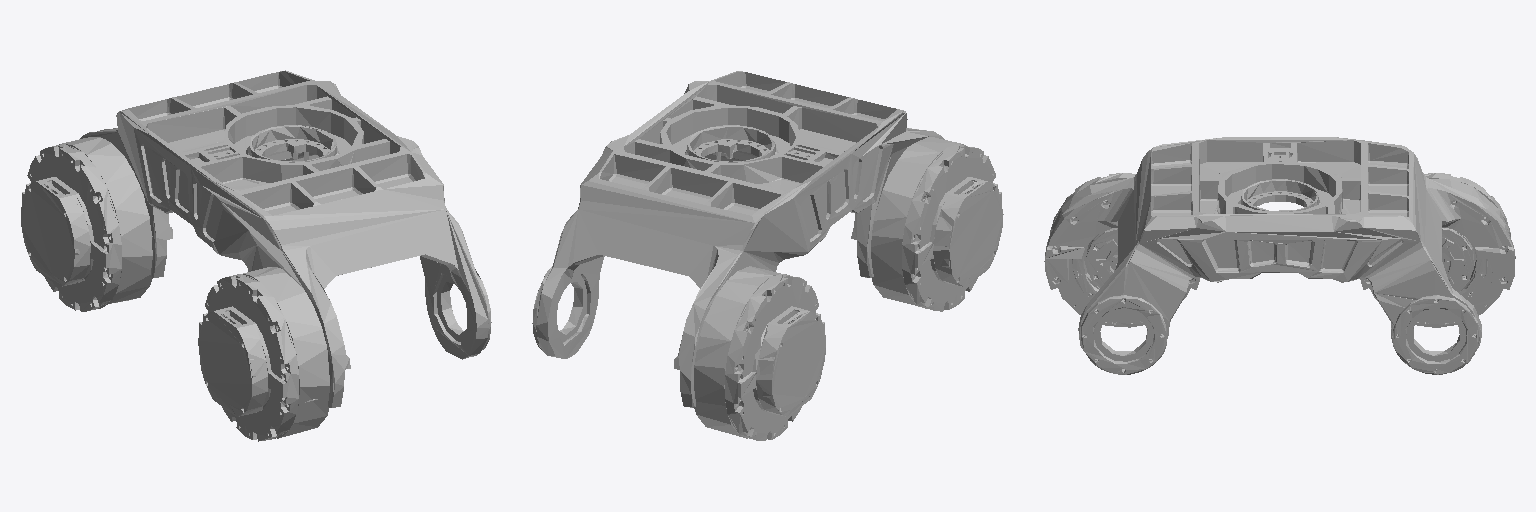
URDF robot description (humanoid):
<?xml version="1.0" encoding="utf-8"?>
<robot name="humanoid">
  <mujoco>
        <compiler 
        meshdir="meshes/" 
        balanceinertia="true" 
        discardvisual="false" />
  </mujoco>
  <link name="pelvis">
    <inertial>
      <origin xyz="-0.047395 0.00 -0.046657" rpy="0 0 0"/>
      <mass value="5.587228"/>
      <inertia ixx="0.080339" ixy="-0.0000080" ixz="0.006666" iyy="0.029082" iyz="-0.000004" izz="0.091570"/>
    </inertial>
    <visual>
      <origin xyz="0 0 0.013" rpy="0 0 0"/>
      <geometry>
        <mesh filename="meshes/pelvis.STL"/>
      </geometry>
      <material name="">
        <color rgba="0.752941176470588 0.752941176470588 0.752941176470588 1"/>
      </material>
    </visual>
    <collision>
      <origin xyz="0 0 0.01" rpy="0 0 0"/>
      <geometry>
        <cylinder radius="0.08" length="0.05"/></geometry>
    </collision>
  </link>
  <link name="hip_roll_l_link">
    <inertial>
      <origin xyz="-0.00048 0.00336 -0.00372" rpy="0 0 0"/>
      <mass value="1.12809"/>
      <inertia ixx="0.0058" ixy="0.00000" ixz="0.00000" iyy="0.0093" iyz="-0.00011" izz="0.0108"/>
    </inertial>
    <visual>
      <origin xyz="0 0 0" rpy="0 0 0"/>
      <geometry>
        <mesh filename="meshes/hip_roll_l_link.STL"/>
      </geometry>
      <material name="">
        <color rgba="0.752941176470588 0.752941176470588 0.752941176470588 1"/>
      </material>
    </visual>
    <collision>
      <origin xyz="-0.087 0 0.004" rpy="0 1.57 0"/>
      <geometry>
        <cylinder radius="0.06" length="0.03"/></geometry>
    </collision>
  </link>
  <joint name="hip_roll_l_joint" type="revolute">
    <origin xyz="0 0.13 -0.0659230484541305" rpy="0 0 0"/>
    <parent link="pelvis"/>
    <child link="hip_roll_l_link"/>
    <axis xyz="1 0 0"/>
    <limit effort="150" lower="-0.97" upper="0.97" velocity="12"/>
  </joint>
  <link name="hip_yaw_l_link">
    <inertial>
      <origin xyz="0.00104 0.00351 0.00968" rpy="0 0 0"/>
      <mass value="1.91605"/>
      <inertia ixx="0.00237" ixy="-0.00005" ixz="-0.00001" iyy="0.00271" iyz="-0.00005" izz="0.00152"/>
    </inertial>
    <visual>
      <origin xyz="0 0 0" rpy="0 0 0"/>
      <geometry>
        <mesh filename="meshes/hip_yaw_l_link.STL"/>
      </geometry>
      <material name="">
        <color rgba="0.752941176470588 0.752941176470588 0.752941176470588 1"/>
      </material>
    </visual>
    <collision>
      <origin xyz="0 0 0.13" rpy="0 0 0"/>
      <geometry>
        <cylinder radius="0.05" length="0.02"/></geometry>
    </collision>
  </link>
  <joint name="hip_yaw_l_joint" type="revolute">
    <origin xyz="0 0 -0.116" rpy="0 0 0"/>
    <parent link="hip_roll_l_link"/>
    <child link="hip_yaw_l_link"/>
    <axis xyz="0 0 1"/>
    <limit effort="90" lower="-1.0472" upper="1.0472" velocity="14"/>
  </joint>
  <link name="hip_pitch_l_link">
    <inertial>
      <origin xyz="0.00823 -0.00853 -0.13551" rpy="0 0 0"/>
      <mass value="3.37311"/>
      <inertia ixx="0.02261" ixy="0.00036" ixz="-0.00020" iyy="0.02274" iyz="-0.00132" izz="0.00637"/>
    </inertial>
    <visual>
      <origin xyz="0 0 0" rpy="0 0 0"/>
      <geometry>
        <mesh filename="meshes/hip_pitch_l_link.STL"/>
      </geometry>
      <material name="">
        <color rgba="0.752941176470588 0.752941176470588 0.752941176470588 1"/>
      </material>
    </visual>
    <collision>
      <origin xyz="0 0 -0.10" rpy="0 0 0"/>
      <geometry>
        <cylinder radius="0.057" length="0.3"/></geometry>
    </collision>
  </link>
  <joint name="hip_pitch_l_joint" type="revolute">
    <origin xyz="0 0 0" rpy="0 0 0"/>
    <parent link="hip_yaw_l_link"/>
    <child link="hip_pitch_l_link"/>
    <axis xyz="0 1 0"/>
    <limit effort="150" lower="-1.57" upper="0.5236" velocity="12"/>
  </joint>
  <link name="knee_pitch_l_link">
    <inertial>
      <origin xyz="0.00228 0.00293 -0.12066" rpy="0 0 0"/>
      <mass value="2.28832"/>
      <inertia ixx="0.02033" ixy="0.00004" ixz="0.00049" iyy="0.02013" iyz="0.00089" izz="0.00090"/>
    </inertial>
    <visual>
      <origin xyz="0 0 0" rpy="0 0 0"/>
      <geometry>
        <mesh filename="meshes/knee_pitch_l_link.STL"/>
      </geometry>
      <material name="">
        <color rgba="0.752941176470588 0.752941176470588 0.752941176470588 1"/>
      </material>
    </visual>
    <collision>
      <origin xyz="0 0 -0.14" rpy="0 0 0"/>
      <geometry>
        <cylinder radius="0.03" length="0.2"/></geometry>
    </collision>
  </link>
  <joint name="knee_pitch_l_joint" type="revolute">
    <origin xyz="0 0 -0.3" rpy="0 0 0"/>
    <parent link="hip_pitch_l_link"/>
    <child link="knee_pitch_l_link"/>
    <axis xyz="0 1 0"/>
    <limit effort="150" lower="0.1745" upper="2.443" velocity="12"/>
  </joint>
  <link name="ankle_pitch_l_link">
    <inertial>
      <origin xyz="0.00027 0.00 0.00" rpy="0 0 0"/>
      <mass value="0.15163"/>
      <inertia ixx="0.003" ixy="0.00000" ixz="0.00000" iyy="0.003" iyz="0.00000" izz="0.006"/>
    </inertial>
    <visual>
      <origin xyz="0 0 0" rpy="0 0 0"/>
      <geometry>
        <mesh filename="meshes/ankle_pitch_l_link.STL"/>
      </geometry>
      <material name="">
        <color rgba="0.752941176470588 0.752941176470588 0.752941176470588 1"/>
      </material>
    </visual>
    <collision>
      <origin xyz="0 0 0" rpy="0 1.57 0"/>
      <geometry>
        <cylinder radius="0.009" length="0.02"/></geometry>
    </collision>
  </link>
  <joint name="ankle_pitch_l_joint" type="revolute">
    <origin xyz="0 0 -0.3" rpy="0 0 0"/>
    <parent link="knee_pitch_l_link"/>
    <child link="ankle_pitch_l_link"/>
    <axis xyz="0 1 0"/>
    <limit effort="60" lower="-1.22" upper="0.5236" velocity="7.8"/>
  </joint>
  <link name="ankle_roll_l_link">
    <inertial>
      <origin xyz="0.00499834596807007 3.85656999529749E-07 -0.0269363007684662" rpy="0 0 0"/>
      <mass value="0.658333536719065"/>
      <inertia

        ixx="0.000513570989980863"

        ixy="-4.87505487499137E-09"

        ixz="0.000203238044973804"
        iyy="0.00217612928759338"

        iyz="7.25924990022402E-10"
        izz="0.00236715733639348" />
    </inertial>
    <visual>
      <origin xyz="0 0 0" rpy="0 0 0"/>
      <geometry>
        <mesh filename="meshes/ankle_roll_l_link.STL"/>
      </geometry>
      <material name="">
        <color rgba="0.752941176470588 0.752941176470588 0.752941176470588 1"/>
      </material>
    </visual>
    <collision>
      <origin xyz="0 0 0" rpy="0 0 0"/>
      <geometry>
      <mesh
        filename="meshes/ankle_roll_l_link.STL" />
      </geometry>
    </collision>
  </link>
  <joint name="ankle_roll_l_joint" type="revolute">
    <origin xyz="0 0 0" rpy="0 0 0"/>
    <parent link="ankle_pitch_l_link"/>
    <child link="ankle_roll_l_link"/>
    <axis xyz="1 0 0"/>
    <limit effort="30" lower="-0.4363" upper="0.4363" velocity="7.8"/>
  </joint>
  <link name="hip_roll_r_link">
    <inertial>
      <origin xyz="-0.00048 -0.00336 -0.00372" rpy="0 0 0"/>
      <mass value="1.12809"/>
      <inertia ixx="0.0058" ixy="0.00000" ixz="0.00000" iyy="0.0093" iyz="0.00011" izz="0.0108"/>
    </inertial>
    <visual>
      <origin xyz="0 0 0" rpy="0 0 0"/>
      <geometry>
        <mesh filename="meshes/hip_roll_r_link.STL"/>
      </geometry>
      <material name="">
        <color rgba="0.752941176470588 0.752941176470588 0.752941176470588 1"/>
      </material>
    </visual>
    <collision>
      <origin xyz="-0.087 0 0.004" rpy="0 1.57 0"/>
      <geometry>
        <cylinder radius="0.06" length="0.03"/></geometry>
    </collision>
  </link>
  <joint name="hip_roll_r_joint" type="revolute">
    <origin xyz="0 -0.13 -0.0659230484541306" rpy="0 0 0"/>
    <parent link="pelvis"/>
    <child link="hip_roll_r_link"/>
    <axis xyz="1 0 0"/>
    <limit effort="150" lower="-0.97" upper="0.97" velocity="12"/>
  </joint>
  <link name="hip_yaw_r_link">
    <inertial>
      <origin xyz="0.00104 -0.00351 0.00968" rpy="0 0 0"/>
      <mass value="1.91605"/>
      <inertia ixx="0.00237" ixy="0.00005" ixz="-0.00001" iyy="0.00271" iyz="0.00005" izz="0.00152"/>
    </inertial>
    <visual>
      <origin xyz="0 0 0" rpy="0 0 0"/>
      <geometry>
        <mesh filename="meshes/hip_yaw_r_link.STL"/>
      </geometry>
      <material name="">
        <color rgba="0.752941176470588 0.752941176470588 0.752941176470588 1"/>
      </material>
    </visual>
    <collision>
      <origin xyz="0 0 0.13" rpy="0 0 0"/>
      <geometry>
        <cylinder radius="0.05" length="0.02"/></geometry>
    </collision>
  </link>
  <joint name="hip_yaw_r_joint" type="revolute">
    <origin xyz="0 0 -0.116" rpy="0 0 0"/>
    <parent link="hip_roll_r_link"/>
    <child link="hip_yaw_r_link"/>
    <axis xyz="0 0 1"/>
    <limit effort="90" lower="-1.0472" upper="1.0472" velocity="14"/>
  </joint>
  <link name="hip_pitch_r_link">
    <inertial>
      <origin xyz="0.00823 0.00853 -0.13551" rpy="0 0 0"/>
      <mass value="3.37311"/>
      <inertia ixx="0.02261" ixy="-0.00036" ixz="-0.00020" iyy="0.02274" iyz="0.00132" izz="0.00637"/>
    </inertial>
    <visual>
      <origin xyz="0 0 0" rpy="0 0 0"/>
      <geometry>
        <mesh filename="meshes/hip_pitch_r_link.STL"/>
      </geometry>
      <material name="">
        <color rgba="0.752941176470588 0.752941176470588 0.752941176470588 1"/>
      </material>
    </visual>
    <collision>
      <origin xyz="0 0 -0.10" rpy="0 0 0"/>
      <geometry>
        <cylinder radius="0.057" length="0.3"/></geometry>
    </collision>
  </link>
  <joint name="hip_pitch_r_joint" type="revolute">
    <origin xyz="0 0 0" rpy="0 0 0"/>
    <parent link="hip_yaw_r_link"/>
    <child link="hip_pitch_r_link"/>
    <axis xyz="0 1 0"/>
    <limit effort="150" lower="-1.57" upper="0.5236" velocity="12"/>
  </joint>
  <link name="knee_pitch_r_link">
    <inertial>
      <origin xyz="0.00228 -0.00293 -0.12066" rpy="0 0 0"/>
      <mass value="2.28832"/>
      <inertia ixx="0.02033" ixy="-0.00004" ixz="0.00049" iyy="0.02013" iyz="-0.00089" izz="0.00090"/>
    </inertial>
    <visual>
      <origin xyz="0 0 0" rpy="0 0 0"/>
      <geometry>
        <mesh filename="meshes/knee_pitch_r_link.STL"/>
      </geometry>
      <material name="">
        <color rgba="0.752941176470588 0.752941176470588 0.752941176470588 1"/>
      </material>
    </visual>
    <collision>
      <origin xyz="0 0 -0.14" rpy="0 0 0"/>
      <geometry>
        <cylinder radius="0.03" length="0.2"/></geometry>
    </collision>
  </link>
  <joint name="knee_pitch_r_joint" type="revolute">
    <origin xyz="0 0 -0.3" rpy="0 0 0"/>
    <parent link="hip_pitch_r_link"/>
    <child link="knee_pitch_r_link"/>
    <axis xyz="0 1 0"/>
    <limit effort="150" lower="0.1745" upper="2.443" velocity="12"/>
  </joint>
  <link name="ankle_pitch_r_link">
    <inertial>
      <origin xyz="0.00027 0.00 0.00" rpy="0 0 0"/>
      <mass value="0.15163"/>
      <inertia ixx="0.003" ixy="0.00000" ixz="0.00000" iyy="0.003" iyz="0.00000" izz="0.006"/>
    </inertial>
    <visual>
      <origin xyz="0 0 0" rpy="0 0 0"/>
      <geometry>
        <mesh filename="meshes/ankle_pitch_r_link.STL"/>
      </geometry>
      <material name="">
        <color rgba="0.752941176470588 0.752941176470588 0.752941176470588 1"/>
      </material>
    </visual>
    <collision>
      <origin xyz="0 0 0" rpy="0 1.57 0"/>
      <geometry>
        <cylinder radius="0.009" length="0.02"/></geometry>
    </collision>
  </link>
  <joint name="ankle_pitch_r_joint" type="revolute">
    <origin xyz="0 0 -0.3" rpy="0 0 0"/>
    <parent link="knee_pitch_r_link"/>
    <child link="ankle_pitch_r_link"/>
    <axis xyz="0 1 0"/>
    <limit effort="60" lower="-1.22" upper="0.5236" velocity="7.8"/>
  </joint>
  <link name="ankle_roll_r_link">
    <inertial>
      <origin xyz="0.00499834596807082 3.85656999640771E-07 -0.0269363007684669" rpy="0 0 0"/>
      <mass value="0.658333536719064"/>
      <inertia ixx="0.000513570989980871" ixy="-4.8750548686116E-09" ixz="0.000203238044973807" iyy="0.00217612928759339" iyz="7.25924989997628E-10" izz="0.00236715733639349"/>
    </inertial>
    <visual>
      <origin xyz="0 0 0" rpy="0 0 0"/>
      <geometry>
        <mesh filename="meshes/ankle_roll_r_link.STL"/>
      </geometry>
      <material name="">
        <color rgba="0.752941176470588 0.752941176470588 0.752941176470588 1"/>
      </material>
    </visual>
    <collision>
      <origin xyz="0 0 0" rpy="0 0 0"/>
      <geometry>
      <mesh
        filename="meshes/ankle_roll_r_link.STL" />
      </geometry>
    </collision>
  </link>
  <joint name="ankle_roll_r_joint" type="revolute">
    <origin xyz="0 0 0" rpy="0 0 0"/>
    <parent link="ankle_pitch_r_link"/>
    <child link="ankle_roll_r_link"/>
    <axis xyz="1 0 0"/>
    <limit effort="30" lower="-0.4363" upper="0.4363" velocity="7.8"/>
  </joint>
  <link name="waist_link">
    <inertial>
      <origin xyz="-0.005467 -0.000016 0.302017" rpy="0 0 0"/>
      <mass value="13.8"/>
      <inertia ixx="0.527626" ixy="0.000095" ixz="-0.001701" iyy="0.471407" iyz="-0.000322" izz="0.111941"/>
    </inertial>
    <visual>
      <origin xyz="0 0 0" rpy="0 0 0"/>
      <geometry>
        <mesh filename="meshes/waist_link.STL"/>
      </geometry>
      <material name="">
        <color rgba="0.752941176470588 0.752941176470588 0.752941176470588 1"/>
      </material>
    </visual>
    <collision>
      <origin xyz="0 0 0.3" rpy="0 0 0"/>
      <geometry>
        <cylinder radius="0.15" length="0.4"/></geometry>
    </collision>
  </link>
  <joint name="waist_joint" type="fixed">
    <origin xyz="0 0 0.0192" rpy="0 0 0"/>
    <parent link="pelvis"/>
    <child link="waist_link"/>
    <axis xyz="0 0 1"/>
    <limit effort="1000" lower="-3.14" upper="3.14" velocity="100"/>
  </joint>
  <link name="shoulder_pitch_l_link">
    <inertial>
      <origin xyz="0.000988 0.030202 0.000417" rpy="0 0 0"/>
      <mass value="0.163757"/>
      <inertia ixx="0.000156" ixy="0.000005" ixz="0.000000" iyy="0.000183" iyz="0.000000" izz="0.000224"/>
    </inertial>
    <visual>
      <origin xyz="0 0 0" rpy="0 0 0"/>
      <geometry>
        <mesh filename="meshes/shoulder_pitch_l_link.STL"/>
      </geometry>
      <material name="">
        <color rgba="0.752941176470588 0.752941176470588 0.752941176470588 1"/>
      </material>
    </visual>
    <collision>
      <origin xyz="0 -0.04 0" rpy="1.57 0 0"/>
      <geometry>
        <cylinder radius="0.03" length="0.08"/></geometry>
    </collision>
  </link>
  <joint name="shoulder_pitch_l_joint" type="fixed">
    <origin xyz="0 0.17581 0.43652" rpy="0.2618 0 0"/>
    <parent link="waist_link"/>
    <child link="shoulder_pitch_l_link"/>
    <axis xyz="0 1 0"/>
    <limit effort="36" lower="-3.14" upper="0.97" velocity="7.8"/>
  </joint>
  <link name="shoulder_roll_l_link">
    <inertial>
      <origin xyz="0.004522 -0.000011 -0.042682" rpy="0 0 0"/>
      <mass value="0.933844"/>
      <inertia ixx="0.001705" ixy="0.00000" ixz="0.000170" iyy="0.00172" iyz="0.000001" izz="0.000234"/>
    </inertial>
    <visual>
      <origin xyz="0 0 0" rpy="0 0 0"/>
      <geometry>
        <mesh filename="meshes/shoulder_roll_l_link.STL"/>
      </geometry>
      <material name="">
        <color rgba="0.752941176470588 0.752941176470588 0.752941176470588 1"/>
      </material>
    </visual>
    <collision>
      <origin xyz="0 0 -0.04" rpy="0 0 0"/>
      <geometry>
        <cylinder radius="0.03" length="0.10"/></geometry>
    </collision>
  </link>
  <joint name="shoulder_roll_l_joint" type="fixed">
    <origin xyz="-0.0025 0.062 0" rpy="0 0 0"/>
    <parent link="shoulder_pitch_l_link"/>
    <child link="shoulder_roll_l_link"/>
    <axis xyz="1 0 0"/>
    <limit effort="36" lower="-0.08" upper="3.49" velocity="7.8"/>
  </joint>
  <link name="shoulder_yaw_l_link">
    <inertial>
      <origin xyz="-0.000044 -0.002833 -0.092643" rpy="0 0 0"/>
      <mass value="0.610091"/>
      <inertia ixx="0.000943" ixy="0.000001" ixz="0.000001" iyy="0.000918" iyz="0.000030" izz="0.000220"/>
    </inertial>
    <visual>
      <origin xyz="0 0 0" rpy="0 0 0"/>
      <geometry>
        <mesh filename="meshes/shoulder_yaw_l_link.STL"/>
      </geometry>
      <material name="">
        <color rgba="0.752941176470588 0.752941176470588 0.752941176470588 1"/>
      </material>
    </visual>
    <collision>
      <origin xyz="0 0 -0.06" rpy="0 0 0"/>
      <geometry>
        <cylinder radius="0.03" length="0.07"/></geometry>
    </collision>
  </link>
  <joint name="shoulder_yaw_l_joint" type="fixed">
    <origin xyz="0 0 -0.107" rpy="0 0 0"/>
    <parent link="shoulder_roll_l_link"/>
    <child link="shoulder_yaw_l_link"/>
    <axis xyz="0 0 1"/>
    <limit effort="36" lower="-2.96" upper="2.96" velocity="7.8"/>
  </joint>
  <link name="elbow_l_link">
    <inertial>
      <origin xyz="-0.000267 -0.001013 -0.145930" rpy="0 0 0"/>
      <mass value="0.341159"/>
      <inertia ixx="0.005196" ixy="0.0" ixz="0.000004" iyy="0.005151" iyz="-0.000052" izz="0.000220"/>
    </inertial>
    <visual>
      <origin xyz="0 0 0" rpy="0 0 0"/>
      <geometry>
        <mesh filename="meshes/elbow_l_link.STL"/>
      </geometry>
      <material name="">
        <color rgba="0.898039215686275 0.917647058823529 0.929411764705882 1"/>
      </material>
    </visual>
    <collision>
      <origin xyz="0 0 -0.15" rpy="0 0 0"/>
      <geometry>
        <cylinder radius="0.02" length="0.25"/></geometry>
    </collision>
  </link>
  <joint name="elbow_l_joint" type="fixed">
    <origin xyz="-0.0 0.0 -0.11" rpy="0 0 0"/>
    <parent link="shoulder_yaw_l_link"/>
    <child link="elbow_l_link"/>
    <axis xyz="0 1 0"/>
    <limit effort="36" lower="-2.1" upper="0.0" velocity="7.8"/>
  </joint>
  <link name="shoulder_pitch_r_link">
    <inertial>
      <origin xyz="0.000988 -0.030202 0.000417" rpy="0 0 0"/>
      <mass value="0.163757"/>
      <inertia ixx="0.000156" ixy="-0.000005" ixz="0.000000" iyy="0.000183" iyz="-0.000000" izz="0.000224"/>
    </inertial>
    <visual>
      <origin xyz="0 0 0" rpy="0 0 0"/>
      <geometry>
        <mesh filename="meshes/shoulder_pitch_r_link.STL"/>
      </geometry>
      <material name="">
        <color rgba="0.752941176470588 0.752941176470588 0.752941176470588 1"/>
      </material>
    </visual>
    <collision>
      <origin xyz="0 0.04 0" rpy="1.57 0 0"/>
      <geometry>
        <cylinder radius="0.03" length="0.08"/></geometry>
    </collision>
  </link>
  <joint name="shoulder_pitch_r_joint" type="fixed">
    <origin xyz="0 -0.17577 0.43652" rpy="-0.2618 0 0"/>
    <parent link="waist_link"/>
    <child link="shoulder_pitch_r_link"/>
    <axis xyz="0 1 0"/>
    <limit effort="36" lower="-3.14" upper="0.97" velocity="7.8"/>
  </joint>
  <link name="shoulder_roll_r_link">
    <inertial>
      <origin xyz="0.004522 0.000011 -0.042682" rpy="0 0 0"/>
      <mass value="0.933844"/>
      <inertia ixx="0.001705" ixy="-0.00000" ixz="0.000170" iyy="0.00172" iyz="-0.000001" izz="0.000234"/>
    </inertial>
    <visual>
      <origin xyz="0 0 0" rpy="0 0 0"/>
      <geometry>
        <mesh filename="meshes/shoulder_roll_r_link.STL"/>
      </geometry>
      <material name="">
        <color rgba="0.752941176470588 0.752941176470588 0.752941176470588 1"/>
      </material>
    </visual>
    <collision>
      <origin xyz="0 0 -0.04" rpy="0 0 0"/>
      <geometry>
        <cylinder radius="0.03" length="0.1"/></geometry>
    </collision>
  </link>
  <joint name="shoulder_roll_r_joint" type="fixed">
    <origin xyz="-0.0025 -0.062 0" rpy="0 0 0"/>
    <parent link="shoulder_pitch_r_link"/>
    <child link="shoulder_roll_r_link"/>
    <axis xyz="1 0 0"/>
    <limit effort="36" lower="-3.49" upper="0.08" velocity="7.8"/>
  </joint>
  <link name="shoulder_yaw_r_link">
    <inertial>
      <origin xyz="-0.000044 0.002833 -0.092643" rpy="0 0 0"/>
      <mass value="0.610091"/>
      <inertia ixx="0.000943" ixy="-0.000001" ixz="0.000001" iyy="0.000918" iyz="-0.000030" izz="0.000220"/>
    </inertial>
    <visual>
      <origin xyz="0 0 0" rpy="0 0 0"/>
      <geometry>
        <mesh filename="meshes/shoulder_yaw_r_link.STL"/>
      </geometry>
      <material name="">
        <color rgba="0.752941176470588 0.752941176470588 0.752941176470588 1"/>
      </material>
    </visual>
    <collision>
      <origin xyz="0 0 -0.06" rpy="0 0 0"/>
      <geometry>
        <cylinder radius="0.03" length="0.07"/></geometry>
    </collision>
  </link>
  <joint name="shoulder_yaw_r_joint" type="fixed">
    <origin xyz="0 0 -0.107" rpy="0 0 0"/>
    <parent link="shoulder_roll_r_link"/>
    <child link="shoulder_yaw_r_link"/>
    <axis xyz="0 0 1"/>
    <limit effort="36" lower="-2.96" upper="2.96" velocity="7.8"/>
  </joint>
  <link name="elbow_r_link">
    <inertial>
      <origin xyz="-0.000267 0.001013 -0.145930" rpy="0 0 0"/>
      <mass value="0.341159"/>
      <inertia ixx="0.005196" ixy="0.0" ixz="0.000004" iyy="0.005151" iyz="0.000052" izz="0.000220"/>
    </inertial>
    <visual>
      <origin xyz="0 0 0" rpy="0 0 0"/>
      <geometry>
        <mesh filename="meshes/elbow_r_link.STL"/>
      </geometry>
      <material name="">
        <color rgba="0.898039215686275 0.917647058823529 0.929411764705882 1"/>
      </material>
    </visual>
    <collision>
      <origin xyz="0 0 -0.15" rpy="0 0 0"/>
      <geometry>
        <cylinder radius="0.02" length="0.25"/></geometry>
    </collision>
  </link>
  <joint name="elbow_r_joint" type="fixed">
    <origin xyz="-0.0 -0.0 -0.11" rpy="0 0 0"/>
    <parent link="shoulder_yaw_r_link"/>
    <child link="elbow_r_link"/>
    <axis xyz="0 1 0"/>
    <limit effort="36" lower="-2.1" upper="0.0" velocity="7.8"/>
  </joint>
</robot>

--- Render facts (derived) ---
3 views of the same robot in one strip: view 1: azimuth 30°, elevation 25°; view 2: azimuth 150°, elevation 25°; view 3: azimuth 270°, elevation 25° (orthographic).
Model humanoid with 22 links and 21 joints (12 revolute, 9 fixed), rooted at pelvis, posed all joints at 0 but 2 set to mid-range because 0 is outside their limits (knee_pitch_l_joint = 1.31, knee_pitch_r_joint = 1.31).
Visible links, largest first — view 1: pelvis; view 2: pelvis; view 3: pelvis.
Boxes of the visible links, left/top/right/bottom form: pelvis: left=21, top=70, right=491, bottom=441; pelvis: left=532, top=71, right=1003, bottom=440; pelvis: left=1044, top=137, right=1515, bottom=374.
Size in the robot's own frame: 0.2058 by 0.3917 by 0.1674 metres.
1 mesh visuals loaded from 22 distinct referenced files (1 binary STL); not drawn: 21 (reference not matched to a file when rendering).